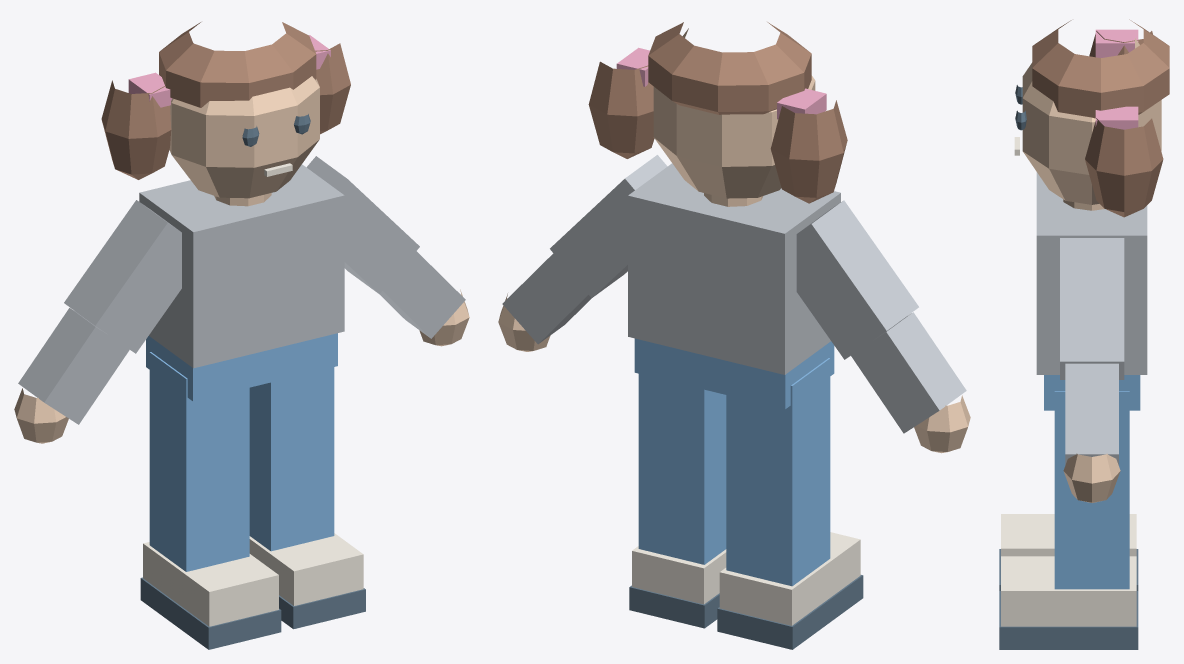
File: 01_runner_kid.glb
The picture shows the model from 3 angles, left to right: view 1: azimuth 30°, elevation 25°; view 2: azimuth 150°, elevation 25°; view 3: azimuth 270°, elevation 25°; orthographic projection. The views are drawn at different scales.
Parts seen in each view (by area): view 1: 01_runner_kid; view 2: 01_runner_kid; view 3: 01_runner_kid.
Boxes of the visible parts, bbox=[...] form: 01_runner_kid: bbox=[14, 22, 469, 649]; 01_runner_kid: bbox=[498, 22, 970, 649]; 01_runner_kid: bbox=[999, 19, 1169, 649].
Bounding box in the file's own units: 1.49 × 1.78 × 0.4777.
